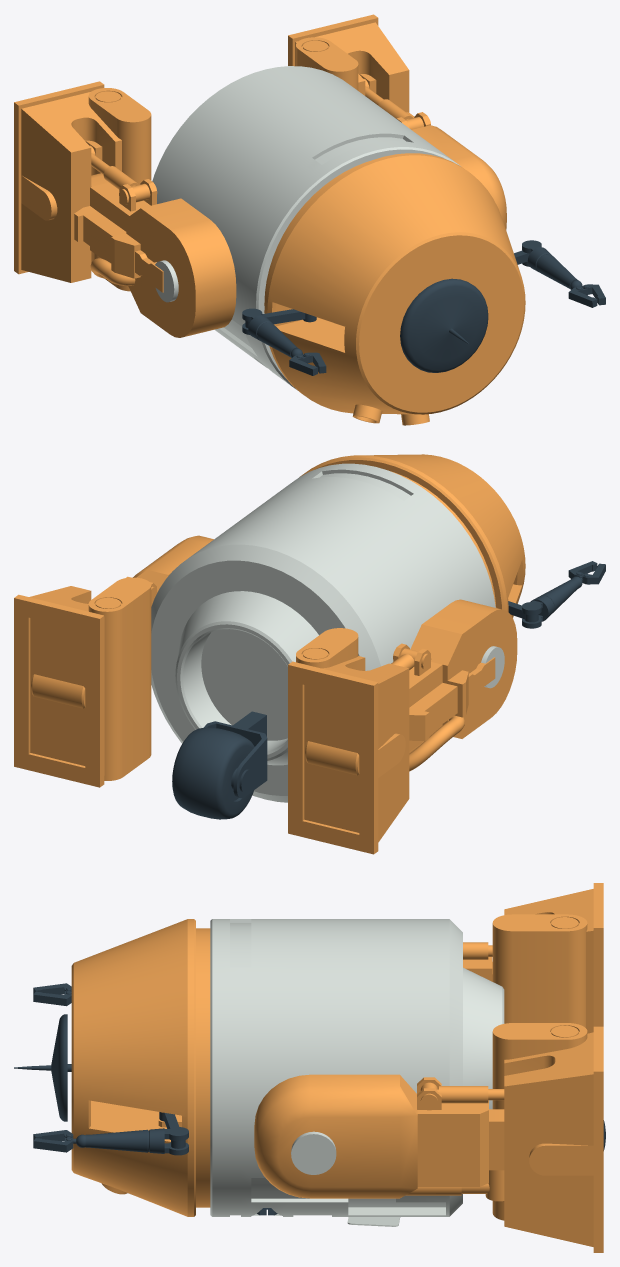
The picture shows the model from 3 angles, top to bottom: view 1: azimuth 30°, elevation 25°; view 2: azimuth 150°, elevation 25°; view 3: azimuth 270°, elevation 25°; orthographic projection. The views are drawn at different scales.
Visible parts, largest first — view 1: Head, Foot_R, Base, Foot_L, Antenna, Arm; view 2: Base, Foot_R, Foot_L, Head, Wheel, Arm; view 3: Base, Foot_L, Head, Foot_R, Arm, Antenna.
Part boxes in pixels (bbox=[...]): Head: bbox=[264, 153, 525, 425]; Foot_R: bbox=[14, 81, 236, 337]; Base: bbox=[152, 66, 460, 390]; Foot_L: bbox=[288, 14, 506, 229]; Antenna: bbox=[400, 278, 488, 372]; Arm: bbox=[242, 240, 605, 375]; Base: bbox=[151, 463, 504, 802]; Foot_R: bbox=[288, 599, 517, 854]; Foot_L: bbox=[14, 535, 213, 787]; Head: bbox=[300, 454, 525, 617]; Wheel: bbox=[172, 711, 267, 819]; Arm: bbox=[508, 561, 605, 628]; Base: bbox=[210, 919, 504, 1226]; Foot_L: bbox=[254, 1023, 603, 1252]; Head: bbox=[71, 919, 210, 1216]; Foot_R: bbox=[463, 883, 603, 1033]; Arm: bbox=[33, 983, 188, 1155]; Antenna: bbox=[14, 1014, 71, 1121].
Size of the model in its own units: 0.76 by 0.5118 by 1.01.
Materials: 3 (3 with a texture image).
